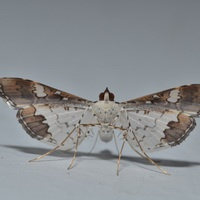insect: (0, 77, 199, 175)
